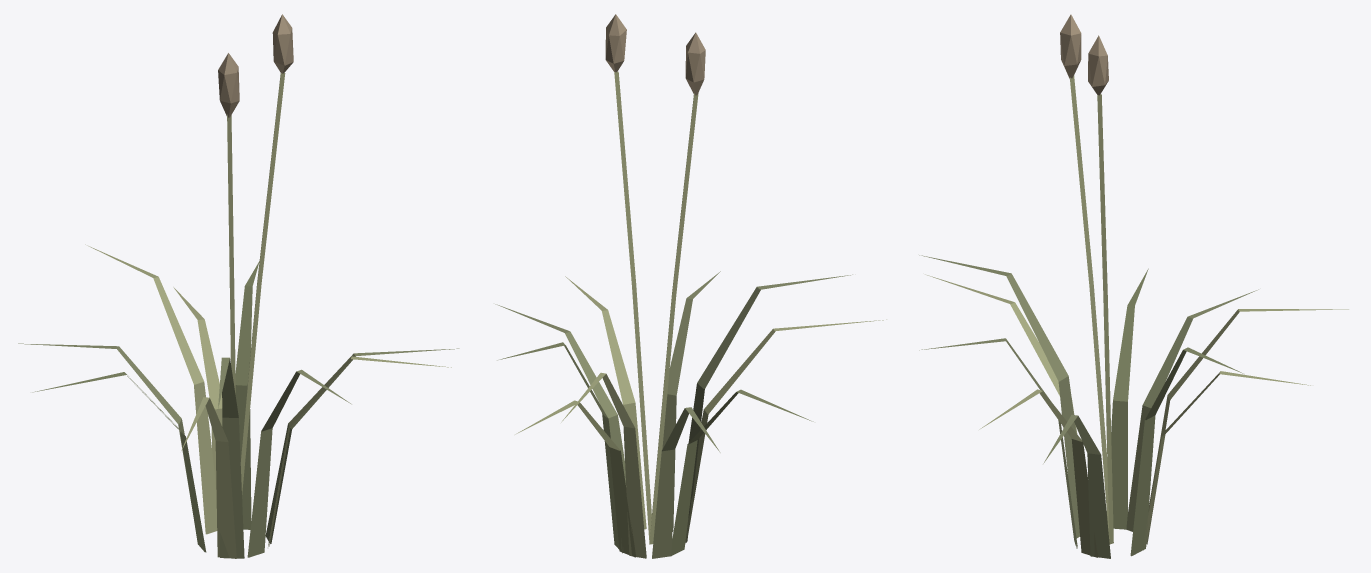
Rendered from grass_tuft_tall.fbx.
3 renders of one model, left to right at view 1: azimuth 30°, elevation 25°; view 2: azimuth 150°, elevation 25°; view 3: azimuth 270°, elevation 25°, orthographic. The views are drawn at different scales.
Visible parts, largest first — view 1: grass_tuft_tall; view 2: grass_tuft_tall; view 3: grass_tuft_tall.
Boxes of the visible parts, x1,y1,x2,y2 form: grass_tuft_tall: (18,14,459,558); grass_tuft_tall: (495,14,886,558); grass_tuft_tall: (919,14,1348,558).
Size of the model in its own units: 0.4453 by 0.439 by 0.5833.
